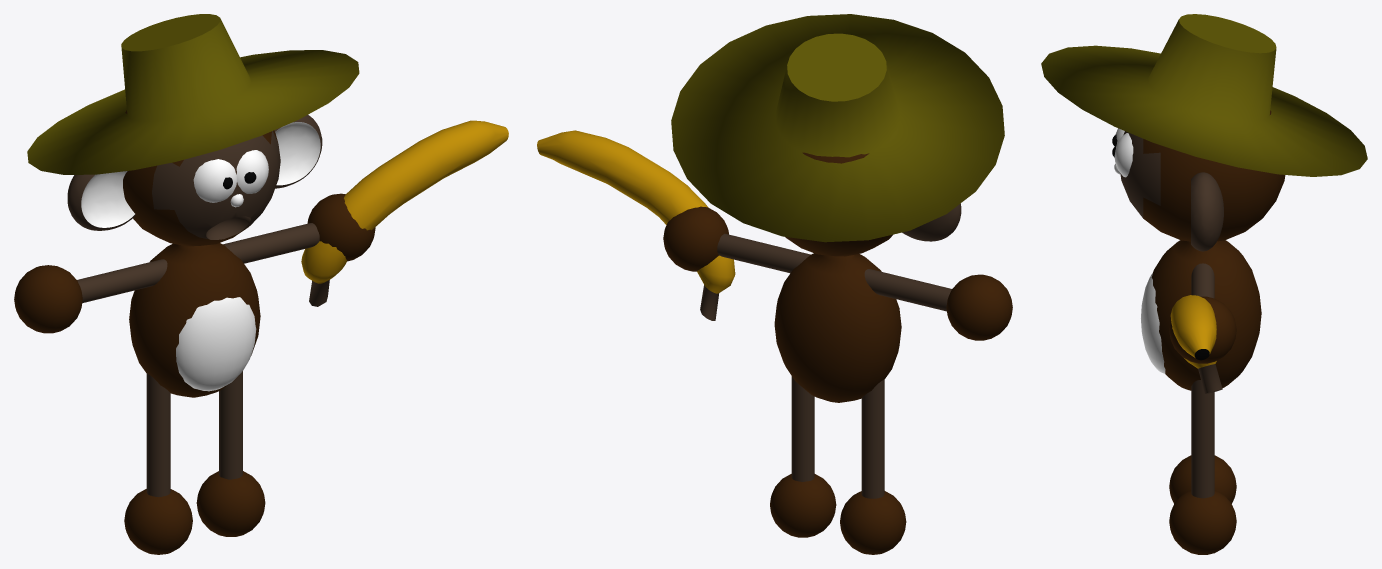
The model's file is Monkey Banana Left.FBX.
The picture shows the model from 3 angles, left to right: view 1: azimuth 30°, elevation 25°; view 2: azimuth 150°, elevation 25°; view 3: azimuth 270°, elevation 25°; orthographic projection. The views are drawn at different scales.
Visible parts, largest first — view 1: Body; view 2: Body; view 3: Body.
Boxes of the visible parts, bbox=[...] form: Body: bbox=[14, 14, 508, 554]; Body: bbox=[537, 14, 1012, 554]; Body: bbox=[1041, 14, 1367, 554].
Size of the model in its own units: 8.18 by 8.32 by 4.83.
